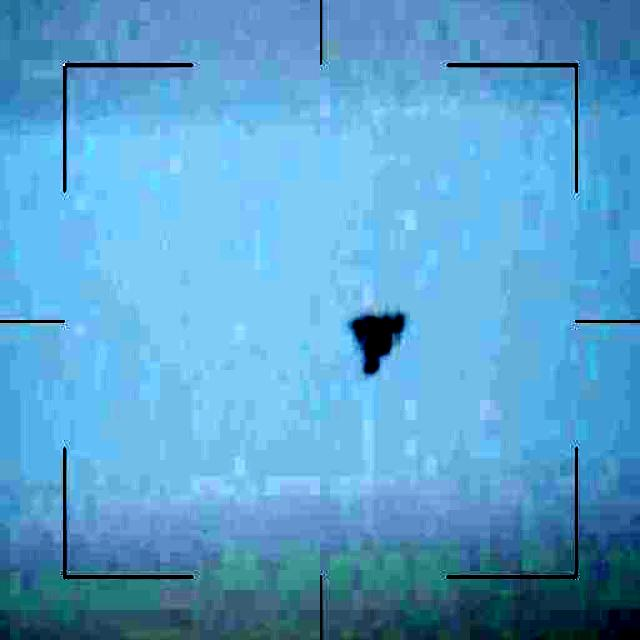bird: (348, 308, 414, 384)
